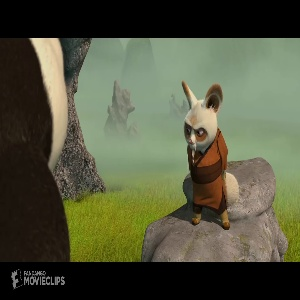po: (1, 38, 77, 262)
shifu: (178, 79, 240, 233)
